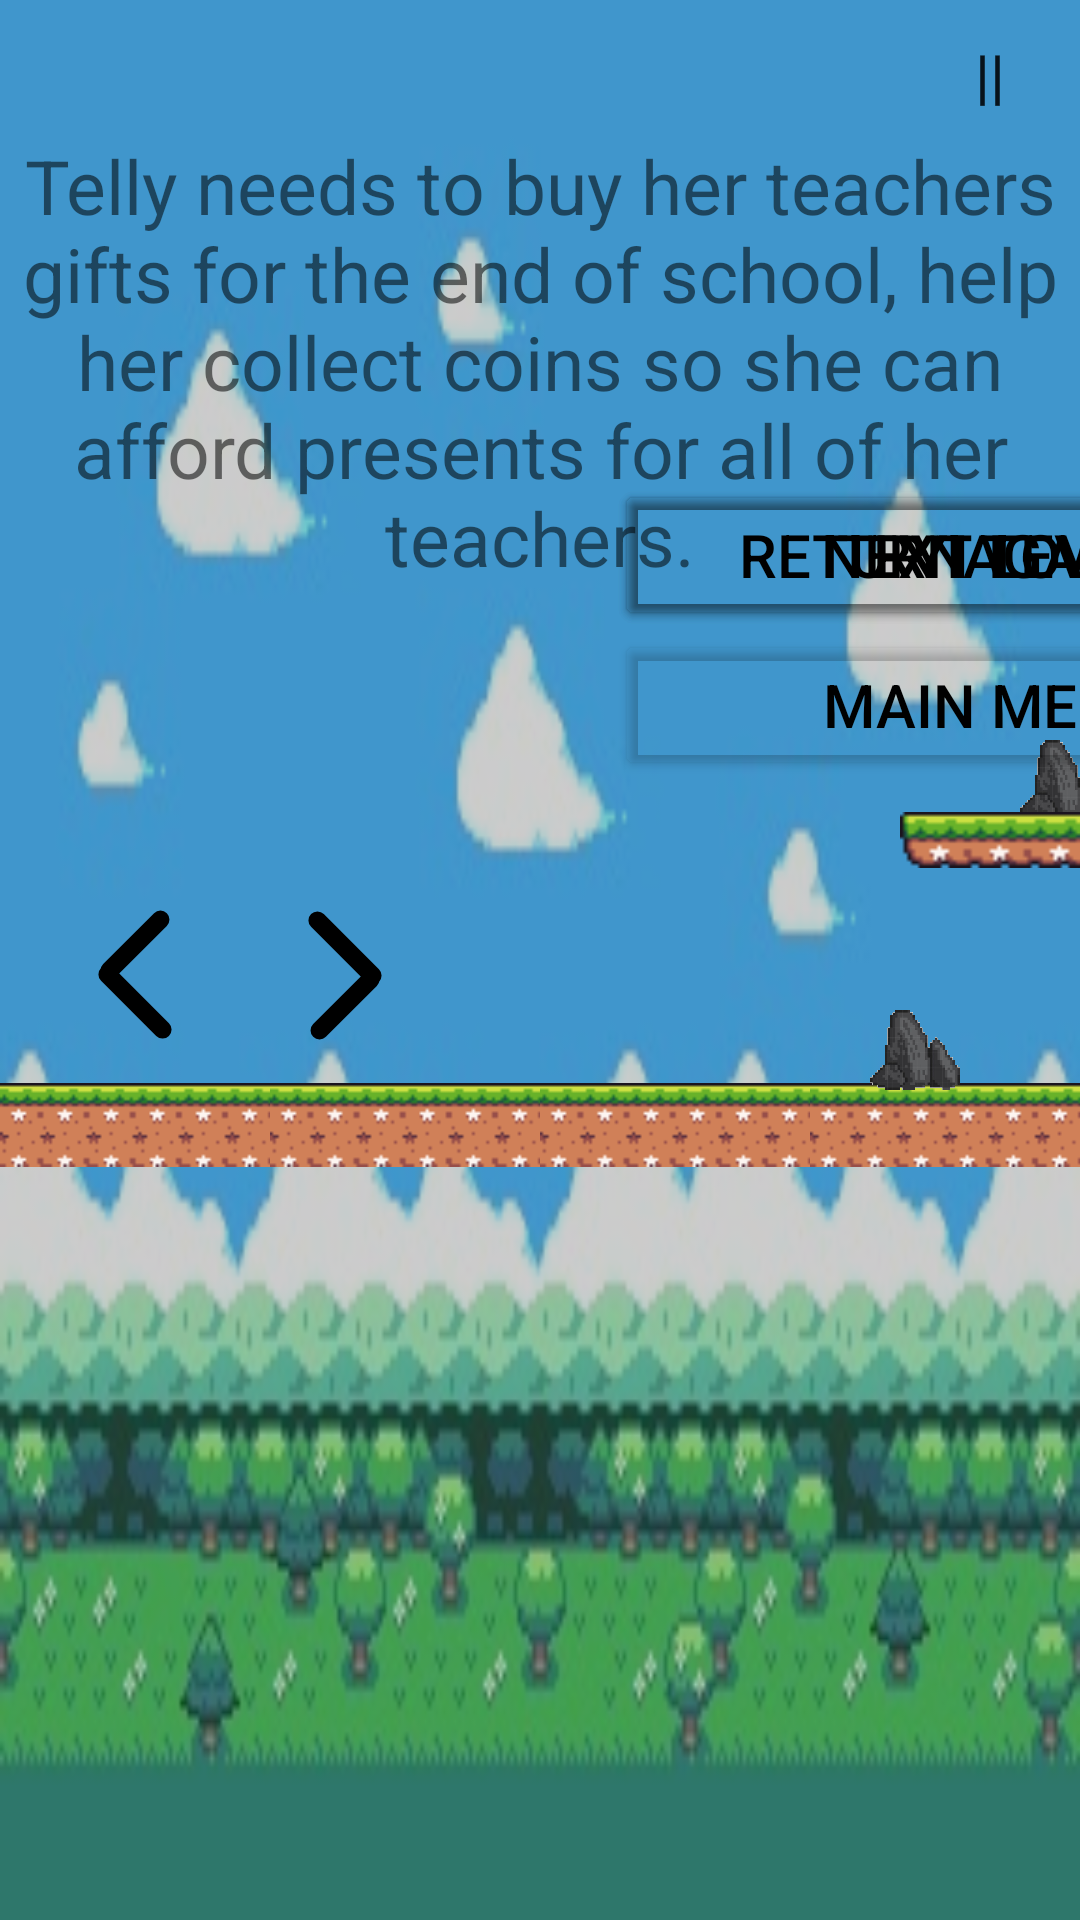

Where to tap for icons on this 1080px×1920px app screen, as (x,y):
summerground: (150,1125), (420,1125), (690,1125), (945,1125)
